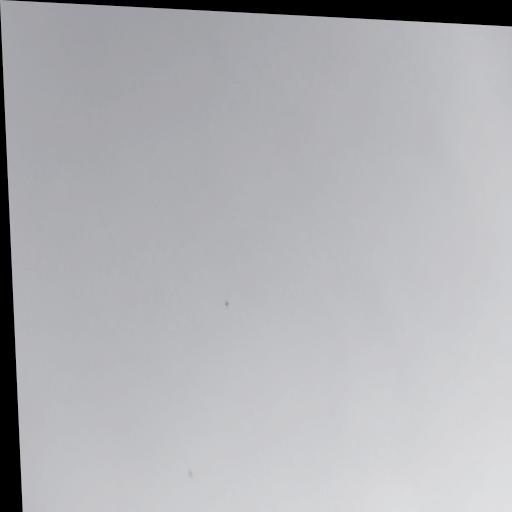drones: (224, 297, 230, 311)
